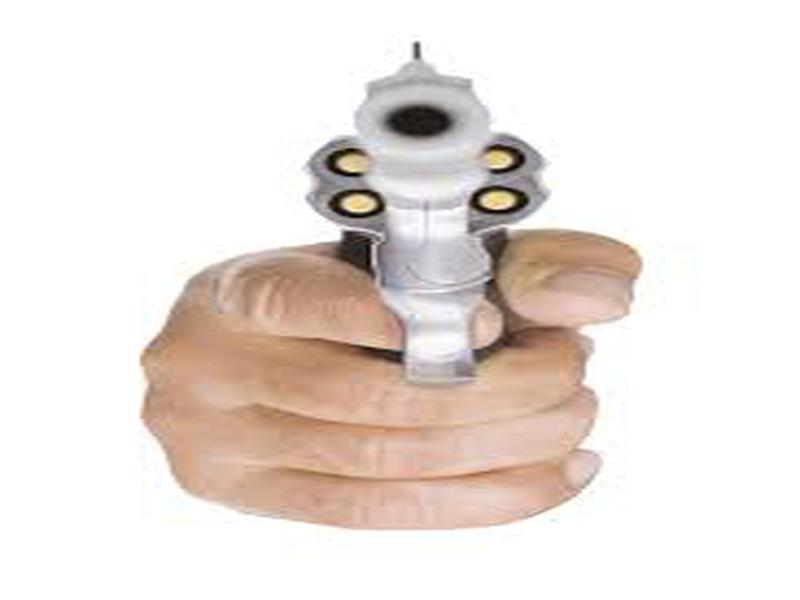Revolver: (302, 34, 551, 392)
